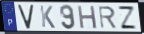9: (59, 4, 77, 31)
H: (76, 5, 98, 30)
K: (39, 5, 57, 29)
R: (98, 6, 118, 30)
V: (17, 4, 35, 30)
Z: (117, 6, 139, 31)
